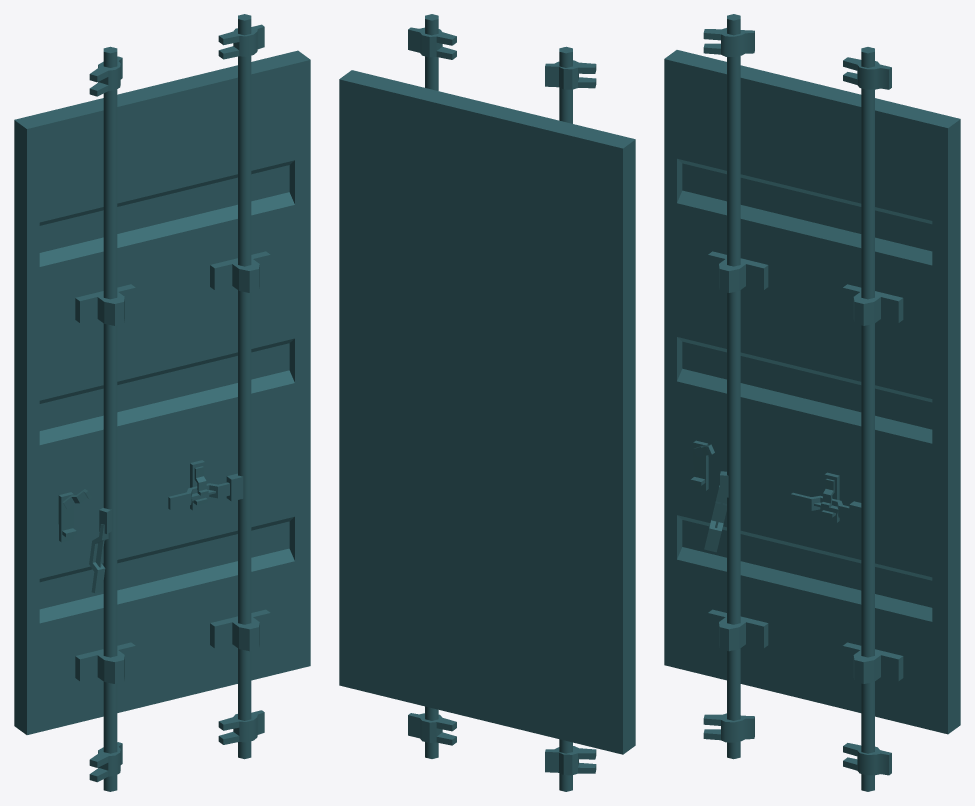
Rendered from mesh_ShippingContainerDoorL_v2.fbx.
3 views of the same model, side by side, from view 1: azimuth 30°, elevation 25°; view 2: azimuth 150°, elevation 25°; view 3: azimuth 330°, elevation 25° (orthographic).
Visible parts, largest first — view 1: mesh_ShippingContainerDoorL_v2_0; view 2: mesh_ShippingContainerDoorL_v2_0; view 3: mesh_ShippingContainerDoorL_v2_0.
Part boxes in pixels (left/top/right/bottom): mesh_ShippingContainerDoorL_v2_0: left=14, top=14, right=310, bottom=791; mesh_ShippingContainerDoorL_v2_0: left=339, top=14, right=635, bottom=791; mesh_ShippingContainerDoorL_v2_0: left=664, top=14, right=960, bottom=791.
Size of the model in its own units: 81.53 by 203 by 14.39.
